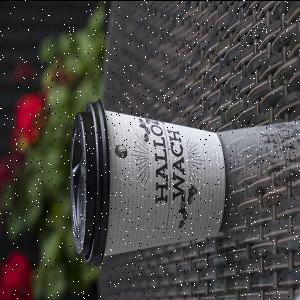Cup: (69, 99, 228, 267)
